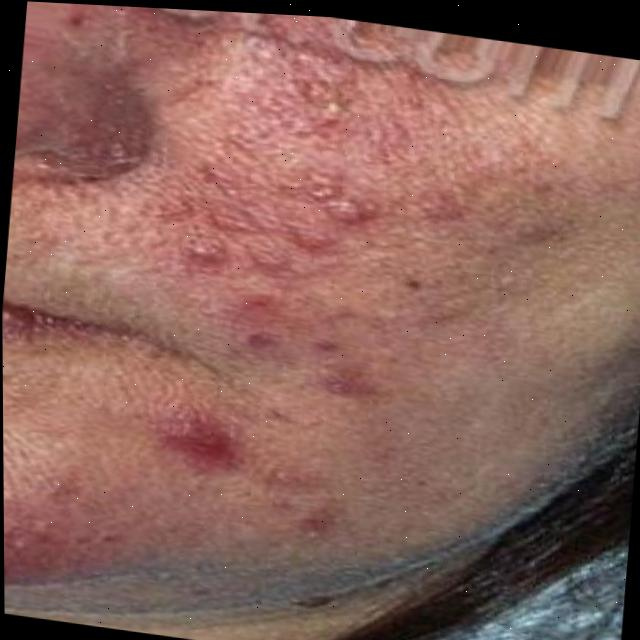Rosacea: (107, 20, 505, 418), (140, 405, 350, 548), (3, 456, 155, 598)
